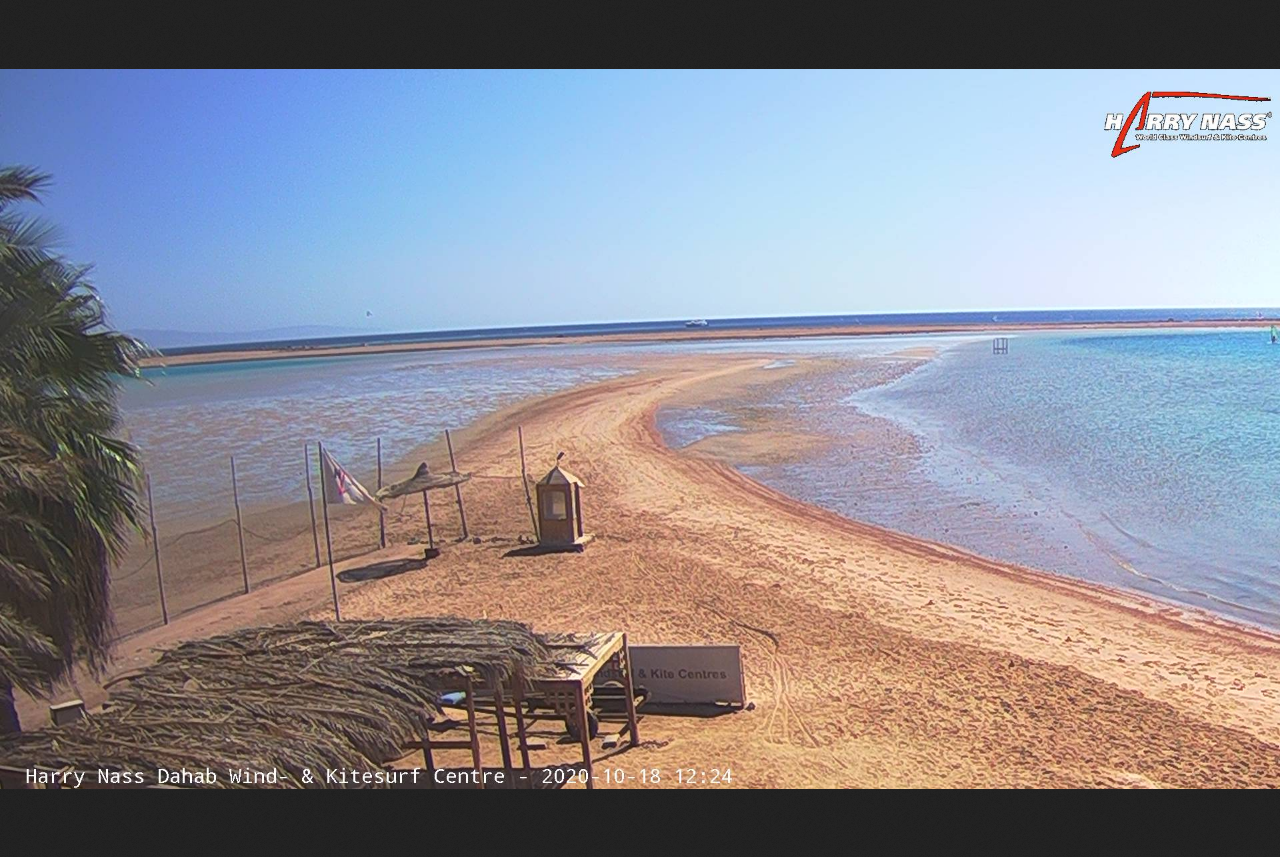maybe: (320, 443, 390, 512)
